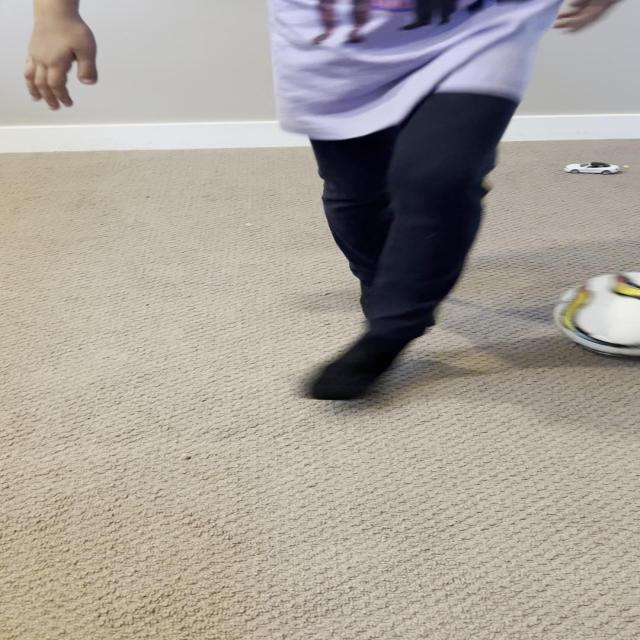Soccer Ball: (556, 271, 640, 357)
